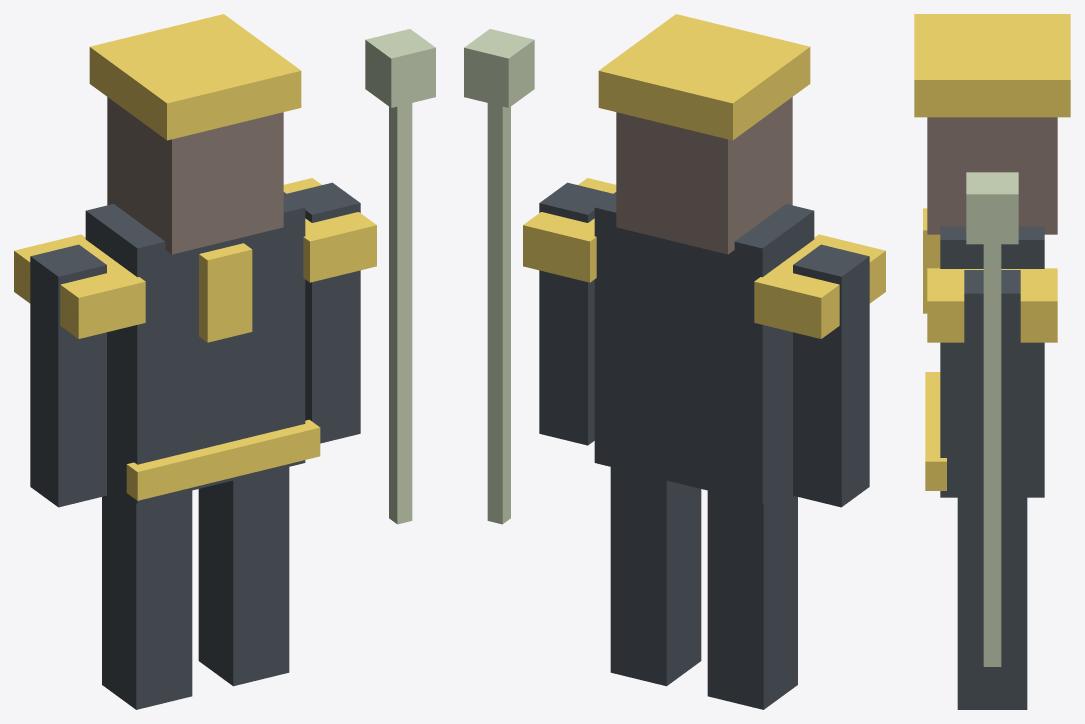
The model's file is 20_makoa_mossguard_operator_under_tempest.glb.
The picture shows the model from 3 angles, left to right: view 1: azimuth 30°, elevation 25°; view 2: azimuth 150°, elevation 25°; view 3: azimuth 270°, elevation 25°; orthographic projection.
Visible parts, largest first — view 1: Makoa Mossguard, Operator under Tempest; view 2: Makoa Mossguard, Operator under Tempest; view 3: Makoa Mossguard, Operator under Tempest.
Boxes of the visible parts, x1,y1,x2,y2 form: Makoa Mossguard, Operator under Tempest: [14, 14, 435, 709]; Makoa Mossguard, Operator under Tempest: [464, 14, 885, 709]; Makoa Mossguard, Operator under Tempest: [914, 14, 1070, 709].
Bounding box in the file's own units: 1.04 × 1.62 × 0.3674.
